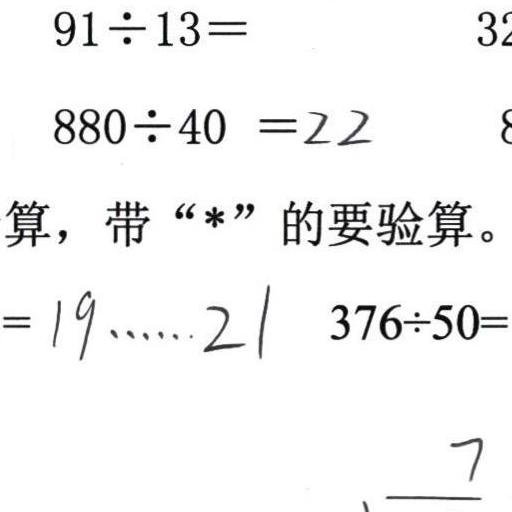ans: (45, 281, 272, 362), (299, 101, 371, 148)
